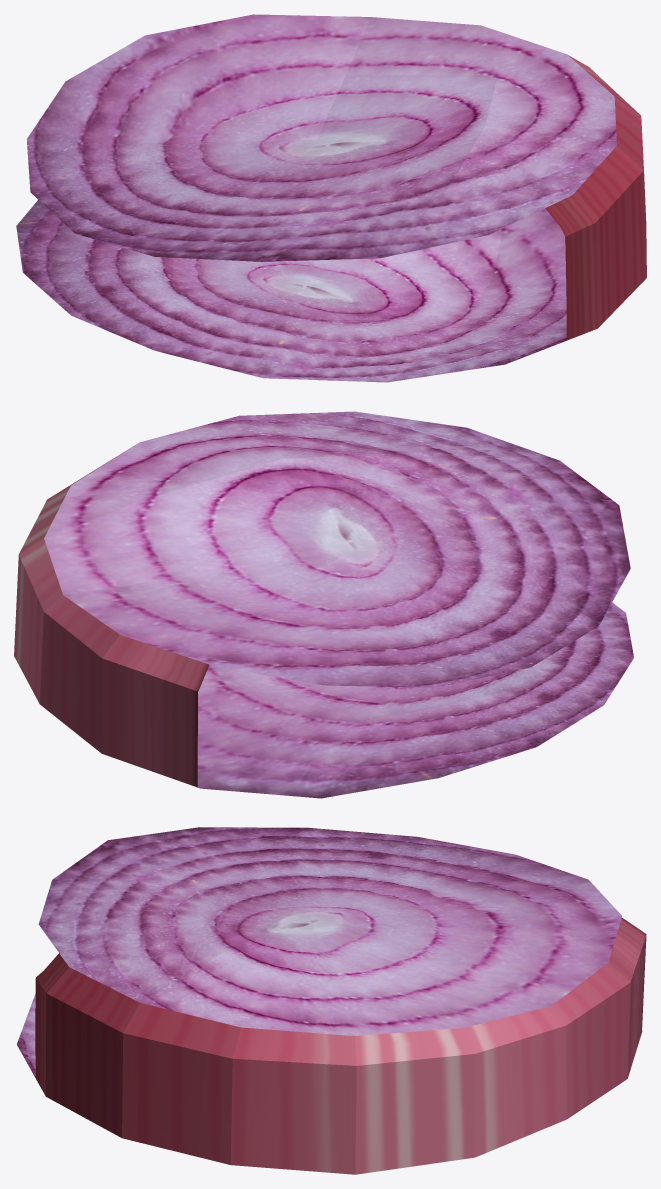
Rendered from RedOnionSliced.fbx.
3 views of the same model, one above another, from view 1: azimuth 30°, elevation 25°; view 2: azimuth 150°, elevation 25°; view 3: azimuth 270°, elevation 25° (orthographic). The views are drawn at different scales.
Parts seen in each view (by area): view 1: RedOnionSliced; view 2: RedOnionSliced; view 3: RedOnionSliced.
Boxes of the visible parts, left/top/right/bottom form: RedOnionSliced: left=16, top=14, right=646, bottom=382; RedOnionSliced: left=14, top=411, right=633, bottom=798; RedOnionSliced: left=17, top=827, right=646, bottom=1174.
Bounding box in the file's own units: 166 × 44.2 × 169.
